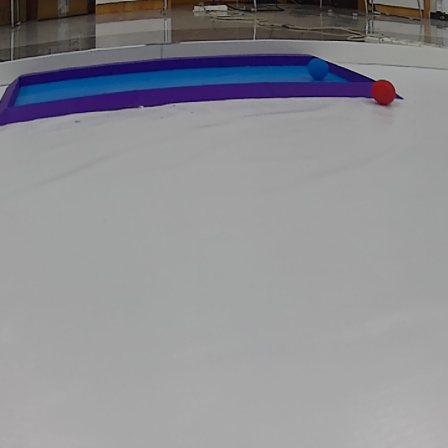blue: (302, 56, 334, 80)
blue_aim: (3, 54, 397, 123)
red: (369, 76, 400, 106)
